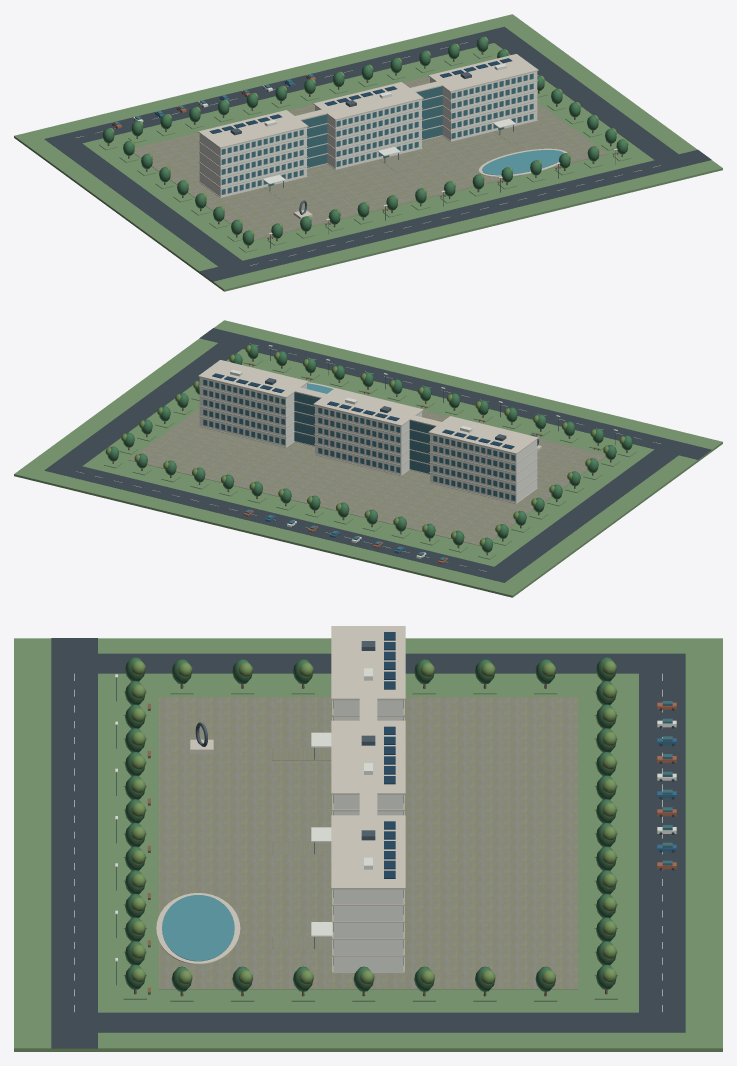
3 renders of one model, top to bottom at view 1: azimuth 30°, elevation 25°; view 2: azimuth 150°, elevation 25°; view 3: azimuth 270°, elevation 25°, orthographic. The views are drawn at different scales.
Parts seen in each view (by area): view 1: Landscape/grass, Landscape/road, Landscape/paving, Landscape/leaf, Building 1/white, Building 4/white, Building 2/white, Building 1/Roof/stone, Building 4/Roof/stone, Building 2/Roof/stone, Water garden/water, Building 3/glass (+3 smaller); view 2: Landscape/grass, Landscape/road, Landscape/paving, Landscape/leaf, Building 1/white, Building 4/white, Building 2/white, Building 1/Roof/stone, Building 4/Roof/stone, Building 2/Roof/stone, Landscape/leaf2, Building 3/glass (+1 smaller); view 3: Landscape/grass, Landscape/paving, Landscape/road, Landscape/leaf, Landscape/leaf2, Building 4/white, Building 4/Roof/stone, Building 2/Roof/stone, Building 1/Roof/stone, Water garden/water, Accessible entrance/paving, Building 2/white (+3 smaller).
Part boxes in pixels (x1=…): Landscape/grass: x1=14, y1=14, x2=722, y2=291; Landscape/road: x1=44, y1=26, x2=711, y2=281; Landscape/paving: x1=134, y1=76, x2=607, y2=240; Landscape/leaf: x1=102, y1=37, x2=627, y2=245; Building 1/white: x1=199, y1=127, x2=306, y2=196; Building 4/white: x1=430, y1=71, x2=537, y2=140; Building 2/white: x1=315, y1=99, x2=421, y2=168; Building 1/Roof/stone: x1=198, y1=110, x2=308, y2=148; Building 4/Roof/stone: x1=428, y1=54, x2=538, y2=92; Building 2/Roof/stone: x1=313, y1=82, x2=423, y2=120; Water garden/water: x1=482, y1=150, x2=564, y2=175; Building 3/glass: x1=301, y1=114, x2=327, y2=167; Landscape/grass: x1=14, y1=320, x2=722, y2=597; Landscape/road: x1=44, y1=328, x2=711, y2=582; Landscape/paving: x1=129, y1=408, x2=605, y2=545; Landscape/leaf: x1=107, y1=344, x2=632, y2=552; Building 1/white: x1=430, y1=433, x2=537, y2=502; Building 4/white: x1=199, y1=377, x2=306, y2=446; Building 2/white: x1=315, y1=405, x2=421, y2=474; Building 1/Roof/stone: x1=428, y1=416, x2=538, y2=454; Building 4/Roof/stone: x1=198, y1=360, x2=308, y2=398; Building 2/Roof/stone: x1=313, y1=388, x2=423, y2=426; Landscape/leaf2: x1=105, y1=345, x2=624, y2=546; Building 3/glass: x1=409, y1=420, x2=435, y2=473; Landscape/grass: x1=14, y1=638, x2=722, y2=1051; Landscape/paving: x1=158, y1=697, x2=578, y2=989; Landscape/road: x1=51, y1=638, x2=685, y2=1048; Landscape/leaf: x1=125, y1=657, x2=616, y2=991; Landscape/leaf2: x1=131, y1=660, x2=616, y2=985; Building 4/white: x1=333, y1=889, x2=403, y2=971; Building 4/Roof/stone: x1=331, y1=815, x2=405, y2=889; Building 2/Roof/stone: x1=331, y1=720, x2=405, y2=794; Building 1/Roof/stone: x1=331, y1=626, x2=405, y2=700; Water garden/water: x1=162, y1=895, x2=234, y2=961; Accessible entrance/paving: x1=272, y1=748, x2=332, y2=949; Building 2/white: x1=333, y1=795, x2=403, y2=815.
Bounding box in the file's own units: 208 × 22.25 × 152.
Materials: 16 (1 with a texture image).
